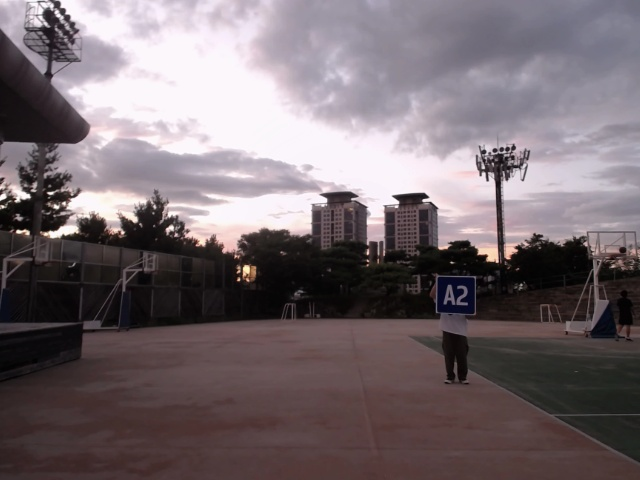delivery_a2: (436, 277, 477, 315)
